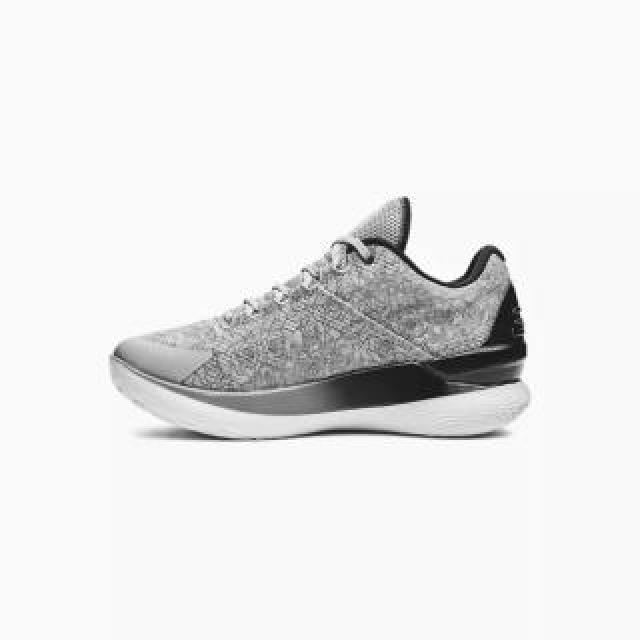shoe: (102, 190, 538, 443), (111, 196, 529, 440)
